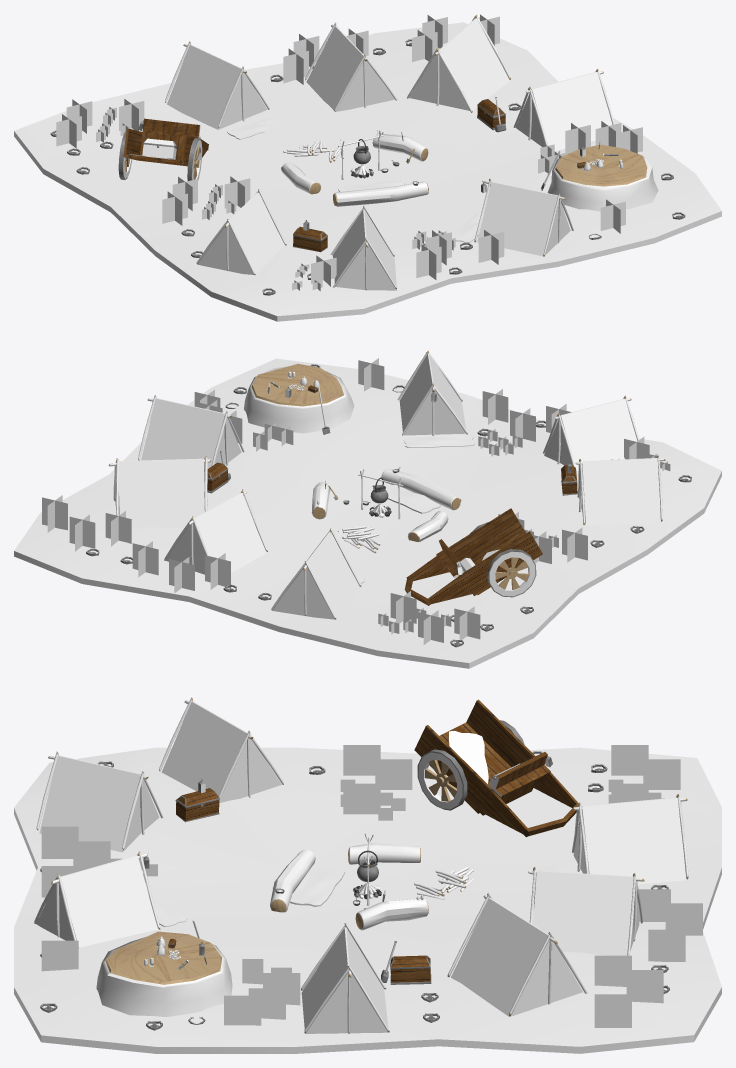
Rendered from campfire.fbx.
3 views of the same model, one above another, from view 1: azimuth 30°, elevation 25°; view 2: azimuth 150°, elevation 25°; view 3: azimuth 270°, elevation 25° (orthographic). The views are drawn at different scales.
Parts seen in each view (by area): view 1: polySurface905, polySurface909, polySurface907; view 2: polySurface905, polySurface909, polySurface907; view 3: polySurface905, polySurface909, polySurface907.
Boxes of the visible parts, x1=… form: polySurface905: x1=14, y1=14, x2=721, y2=321; polySurface909: x1=56, y1=14, x2=642, y2=290; polySurface907: x1=50, y1=39, x2=685, y2=295; polySurface905: x1=14, y1=350, x2=721, y2=668; polySurface909: x1=42, y1=358, x2=670, y2=644; polySurface907: x1=86, y1=364, x2=691, y2=647; polySurface905: x1=14, y1=697, x2=721, y2=1053; polySurface909: x1=41, y1=745, x2=702, y2=1027; polySurface907: x1=40, y1=720, x2=669, y2=1030.
Size of the model in its own units: 147 by 19.12 by 147.
